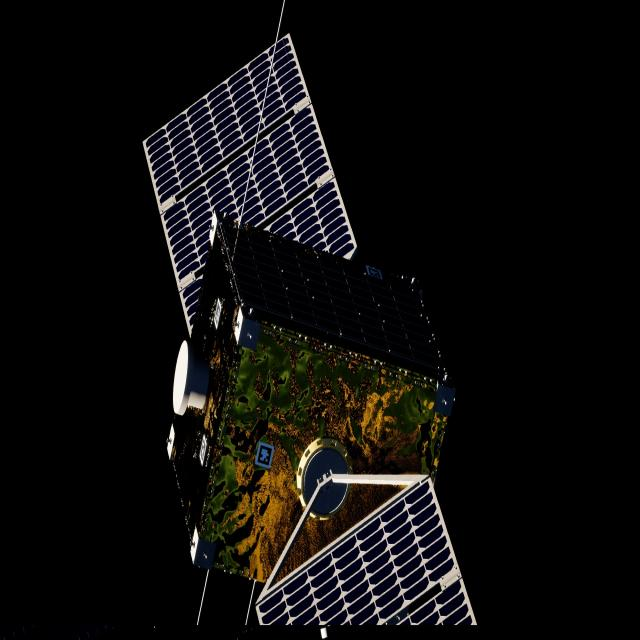medium_debris: (141, 31, 475, 633)
